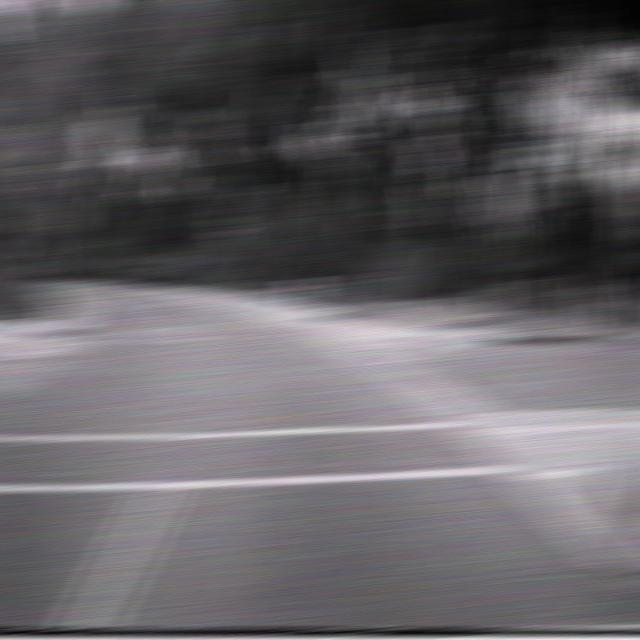stop: (480, 172, 514, 223)
